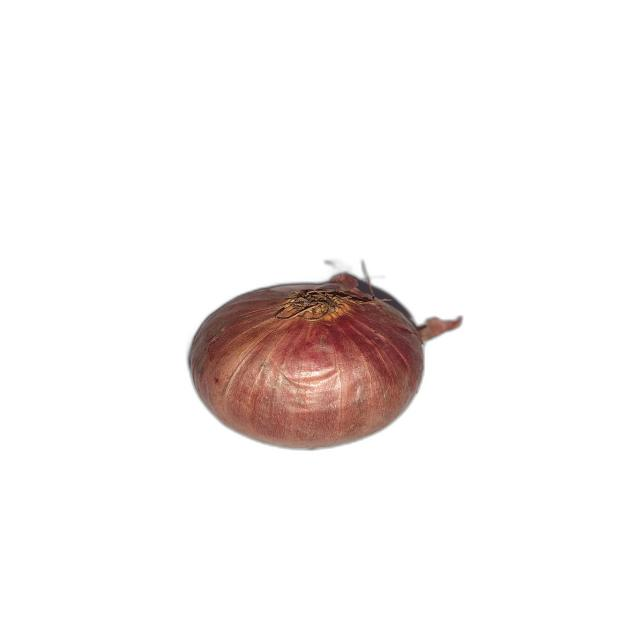onion: (189, 268, 463, 450)
